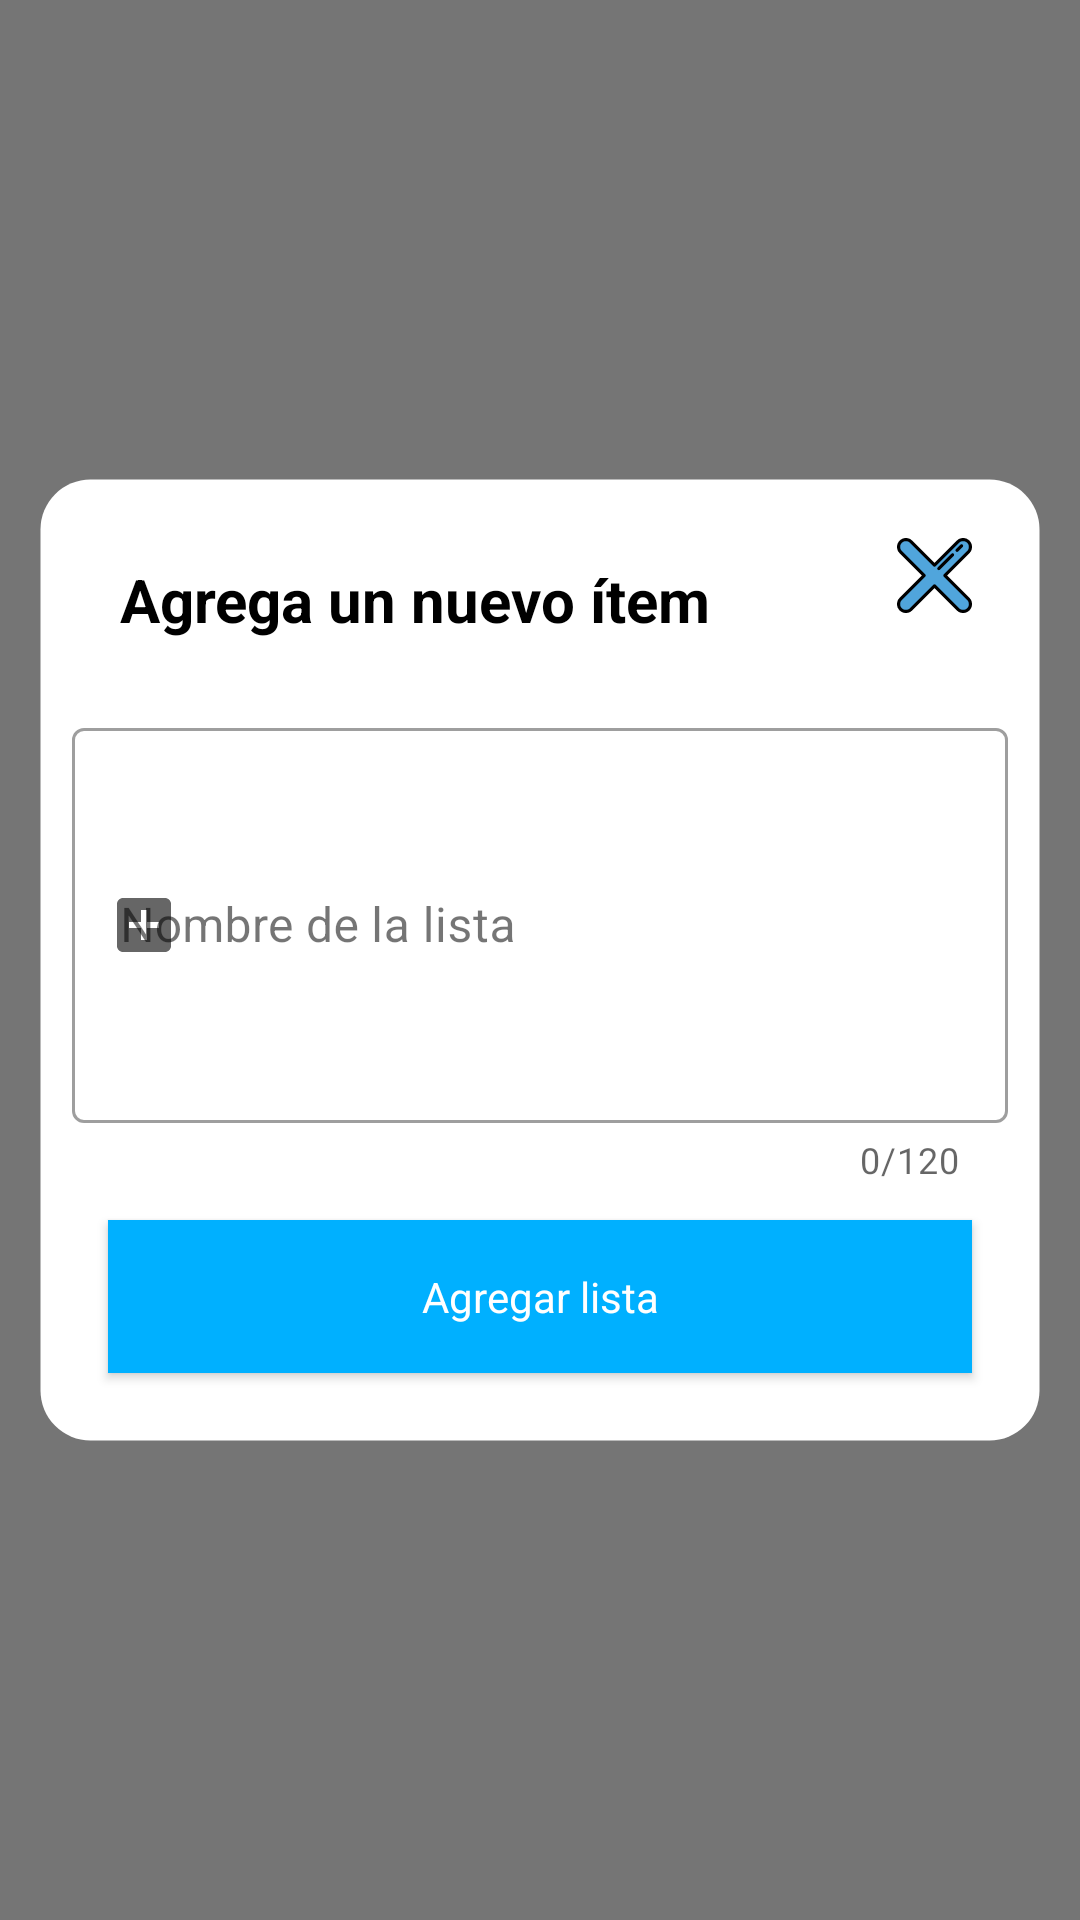

Where to tap for icons on this 1080×1920 app screen, as [x,y]:
close menu: [934,575]
